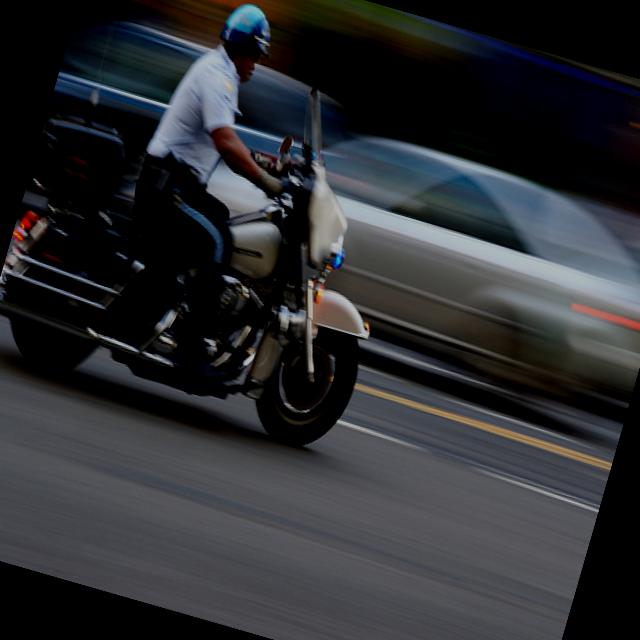Vehicle: (0, 11, 438, 470), (274, 128, 640, 441), (37, 5, 326, 218), (555, 190, 637, 258), (609, 230, 640, 313)
